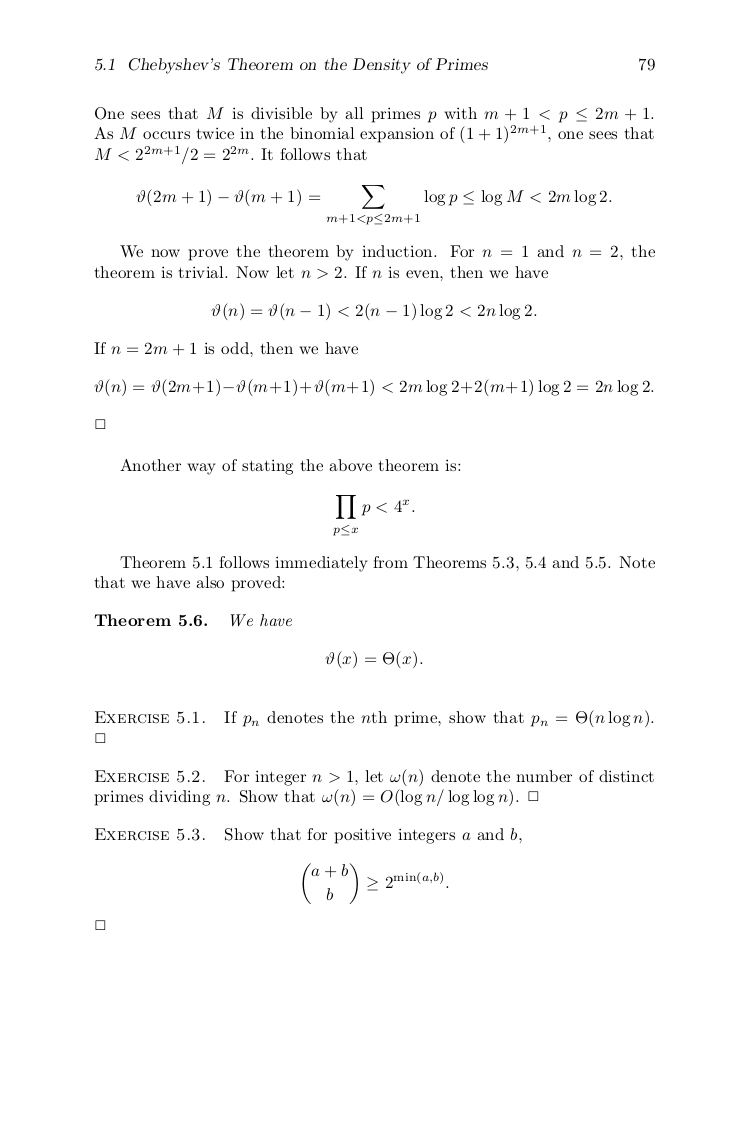formula: (136, 185, 611, 224), (211, 302, 536, 321), (302, 862, 448, 904), (333, 495, 414, 535), (325, 650, 422, 669)
